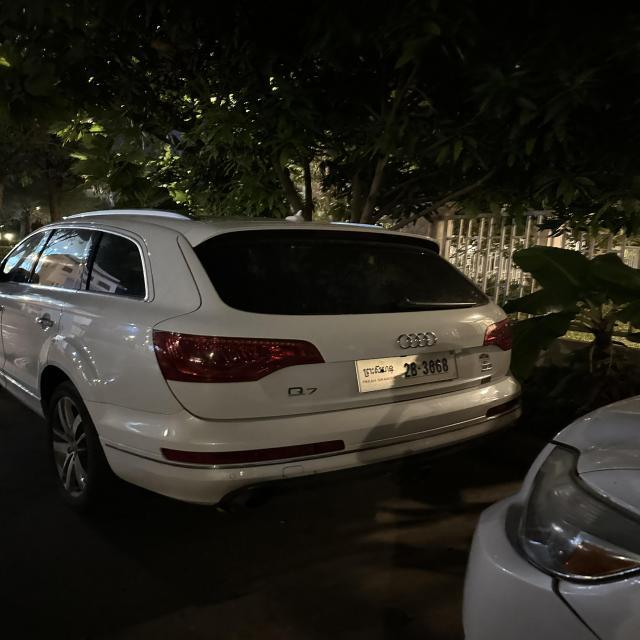Preah_Sihanouk: (364, 364, 396, 378)
